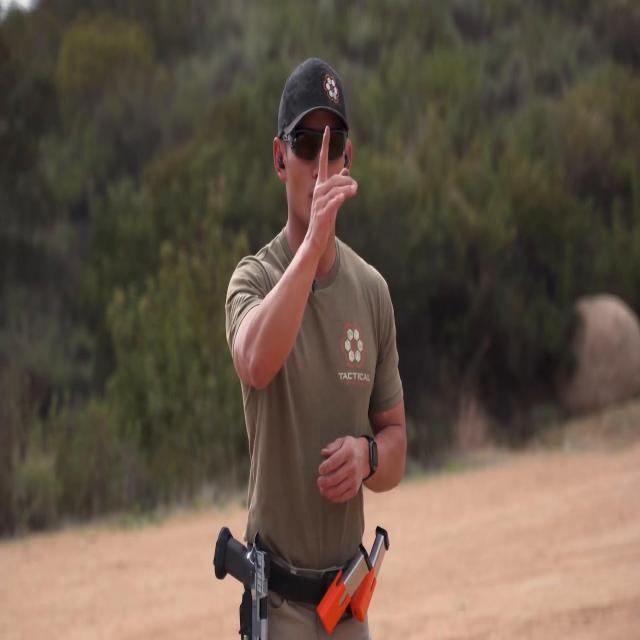pistol: (209, 527, 290, 640)
